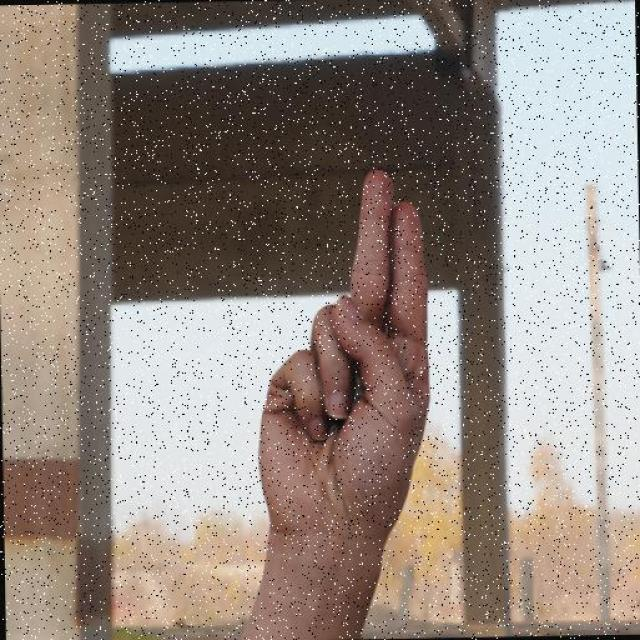U: (246, 164, 434, 530)
